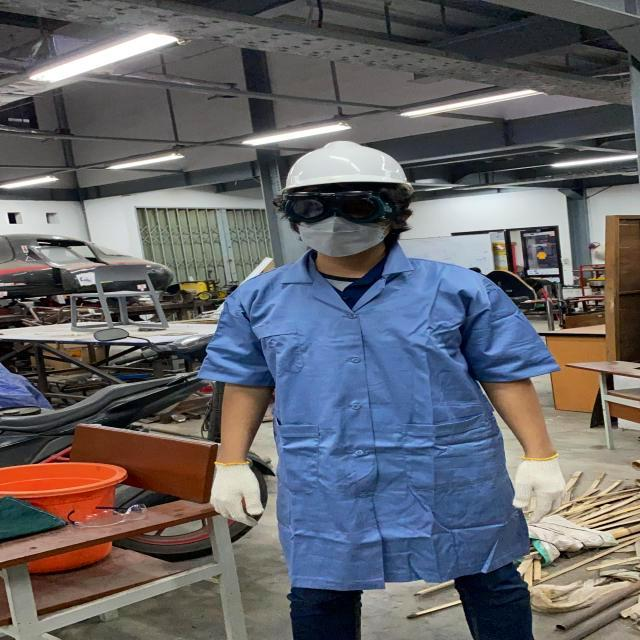Hard_hat: (280, 140, 414, 204)
